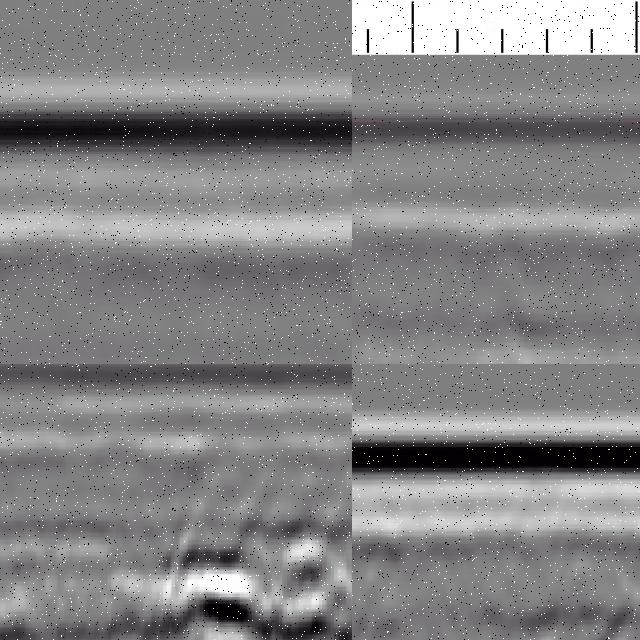loose: (152, 508, 353, 640)
